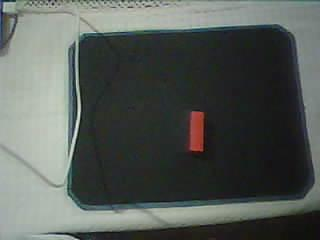lego: (184, 110, 204, 153)
